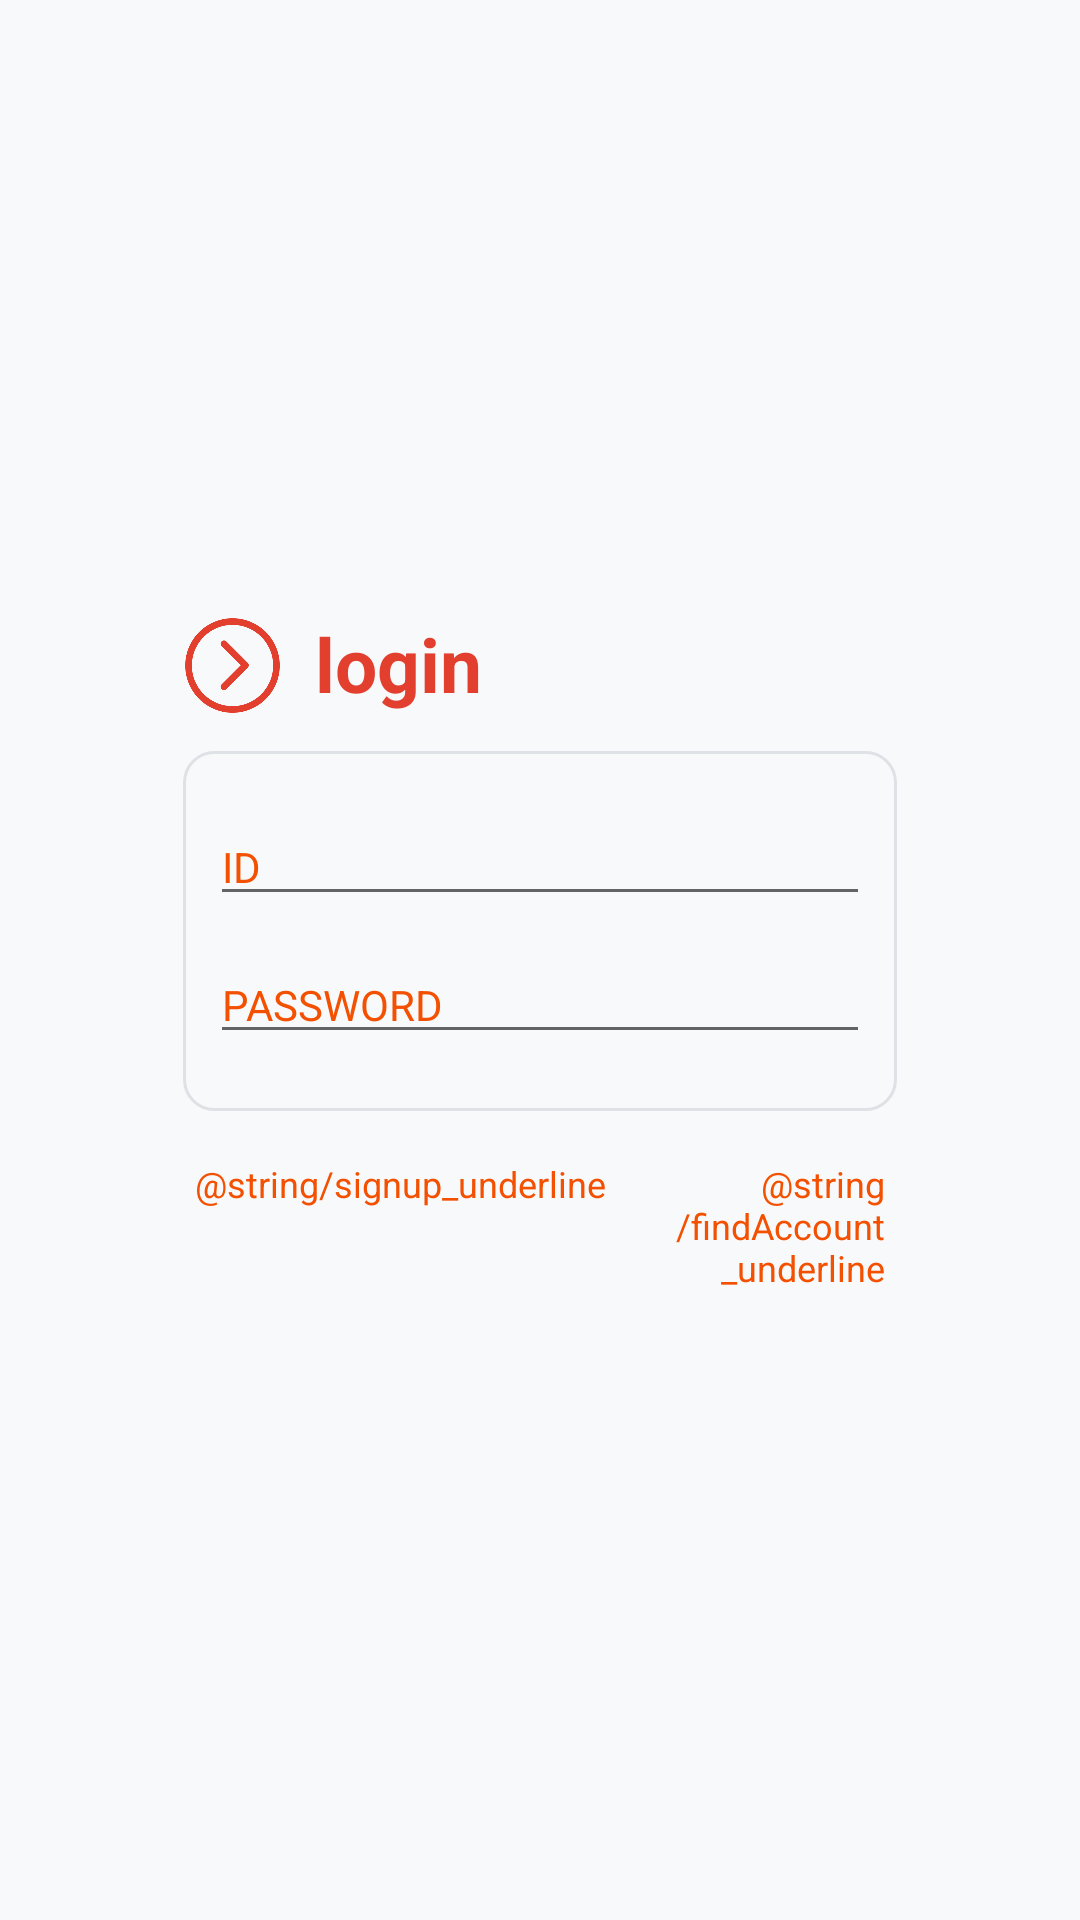

Where to tap for icons on this 1080px×1920px app screen, as (x,y):
arrow: (232,665)
